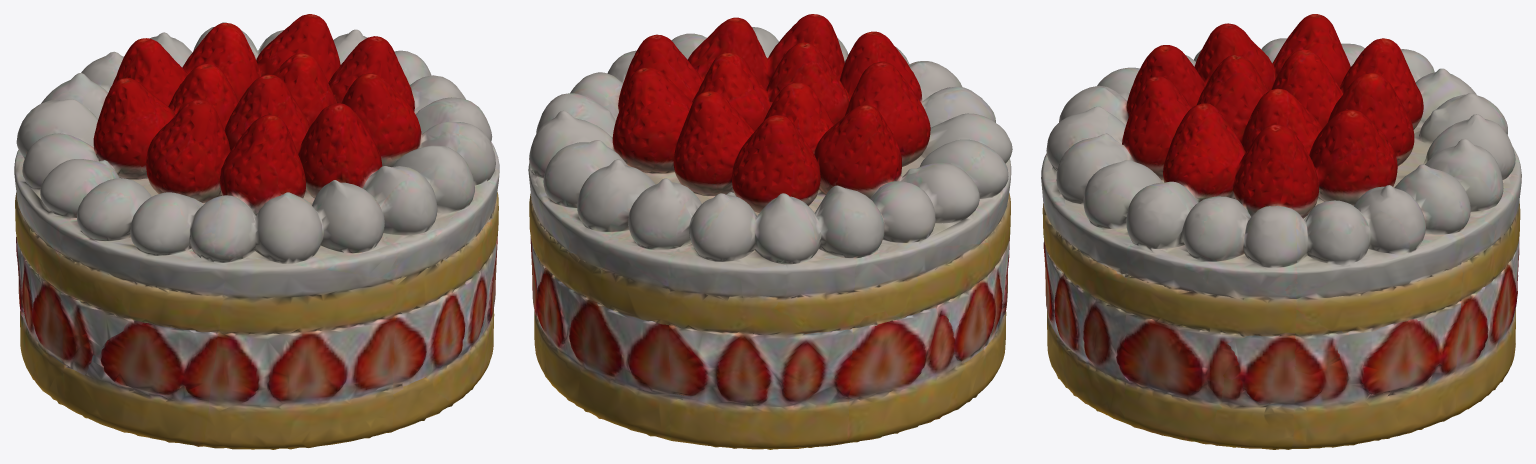
File: cake1.glb
The picture shows the model from 3 angles, left to right: view 1: azimuth 30°, elevation 25°; view 2: azimuth 150°, elevation 25°; view 3: azimuth 270°, elevation 25°; orthographic projection.
Parts seen in each view (by area): view 1: tripo_node_18bc43f2-0f13-4faa-a579-74f40ab0f1f9; view 2: tripo_node_18bc43f2-0f13-4faa-a579-74f40ab0f1f9; view 3: tripo_node_18bc43f2-0f13-4faa-a579-74f40ab0f1f9.
Boxes of the visible parts, bbox=[...] form: tripo_node_18bc43f2-0f13-4faa-a579-74f40ab0f1f9: bbox=[14, 14, 499, 449]; tripo_node_18bc43f2-0f13-4faa-a579-74f40ab0f1f9: bbox=[528, 14, 1012, 449]; tripo_node_18bc43f2-0f13-4faa-a579-74f40ab0f1f9: bbox=[1041, 14, 1521, 449].
Size of the model in its own units: 0.9774 by 0.6548 by 0.9805.
Materials: 1 (1 with a texture image).
